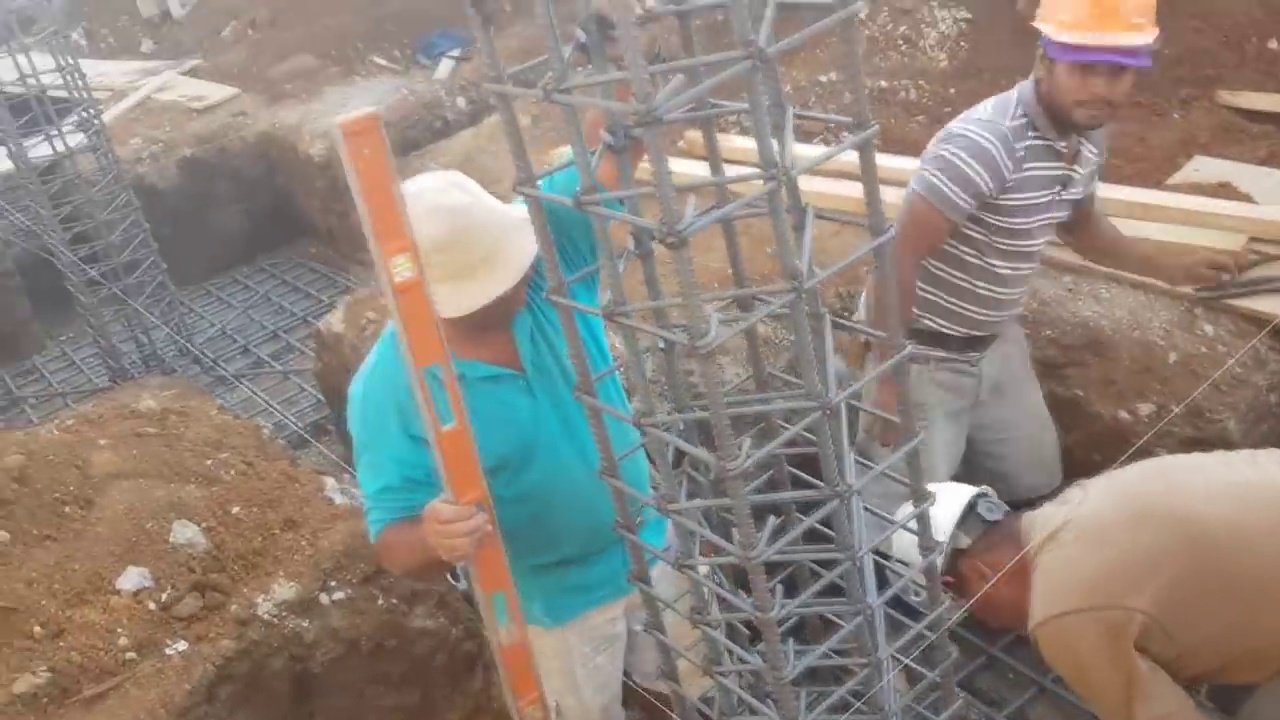helmet: (886, 478, 999, 616), (1024, 4, 1165, 62)
helmet-off: (400, 180, 537, 349)
helmet-on: (885, 461, 1053, 662), (1025, 3, 1164, 144)
person: (311, 126, 685, 703), (841, 2, 1233, 501), (878, 448, 1280, 720)
